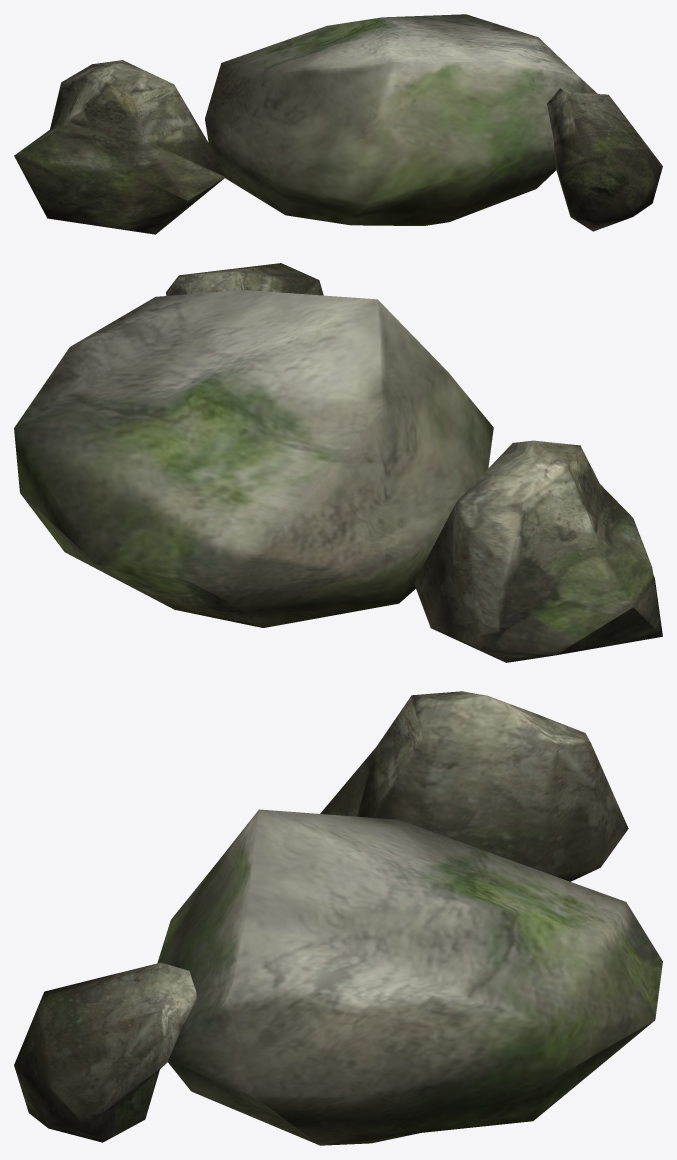
Rendered from rock_group_1_floor.fbx.
3 renders of one model, top to bottom at view 1: azimuth 30°, elevation 25°; view 2: azimuth 150°, elevation 25°; view 3: azimuth 270°, elevation 25°, orthographic. The views are drawn at different scales.
Parts seen in each view (by area): view 1: rock_2, rock_1, rock_3; view 2: rock_2, rock_1, rock_3; view 3: rock_2, rock_1, rock_3.
Boxes of the visible parts, box(x1,y1,x2,y2) form: rock_2: box(205, 14, 597, 225); rock_1: box(14, 60, 225, 234); rock_3: box(547, 88, 662, 231); rock_2: box(14, 290, 493, 627); rock_1: box(414, 440, 662, 662); rock_3: box(166, 263, 323, 295); rock_2: box(157, 809, 662, 1145); rock_1: box(320, 691, 628, 881); rock_3: box(14, 962, 196, 1142).
Size of the model in its own units: 1112 by 370 by 875.
Materials: 1 (1 with a texture image).
